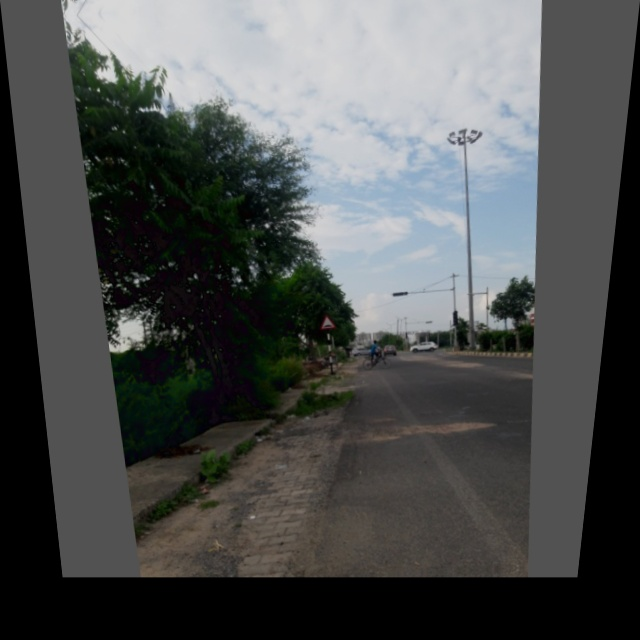Hump_or_Rough_Road: (317, 313, 336, 331)
